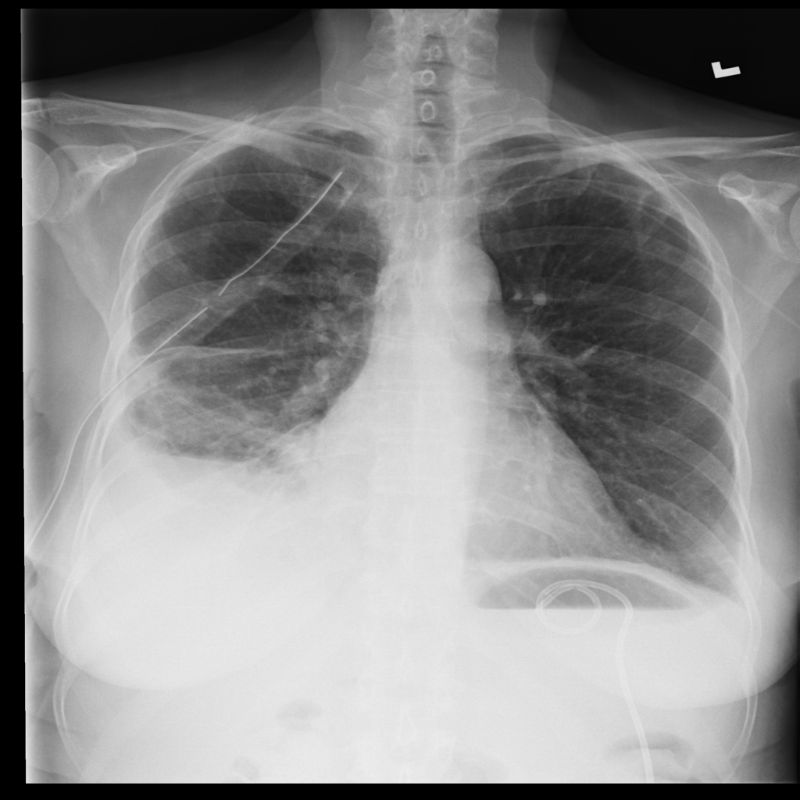PLEURAL EFFUSION: (96, 412, 240, 590)
